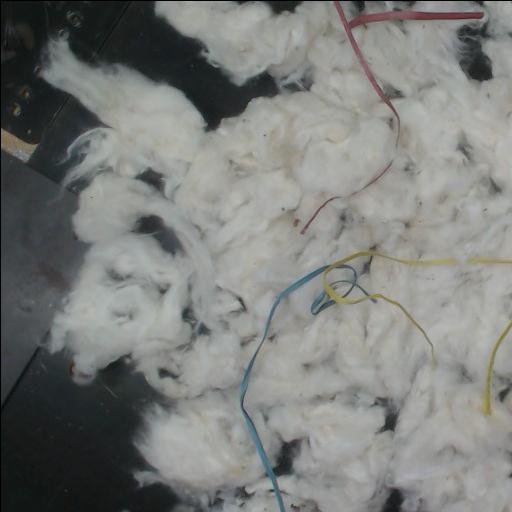conveyor belt: (1, 1, 277, 512), (459, 26, 491, 80), (138, 218, 177, 252), (274, 441, 296, 473), (383, 489, 402, 512), (139, 170, 162, 188), (268, 1, 297, 11)
cotton: (37, 1, 512, 512)
thread: (239, 249, 512, 512), (333, 1, 483, 148), (301, 160, 392, 234), (483, 317, 512, 415)
